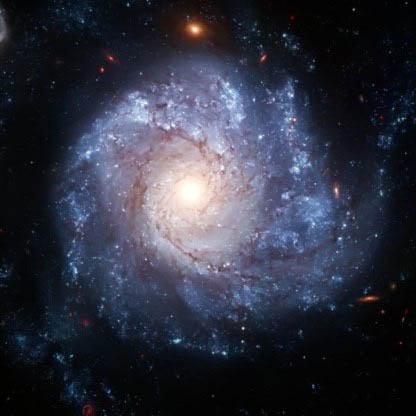NGC 1309: (37, 9, 404, 382)
